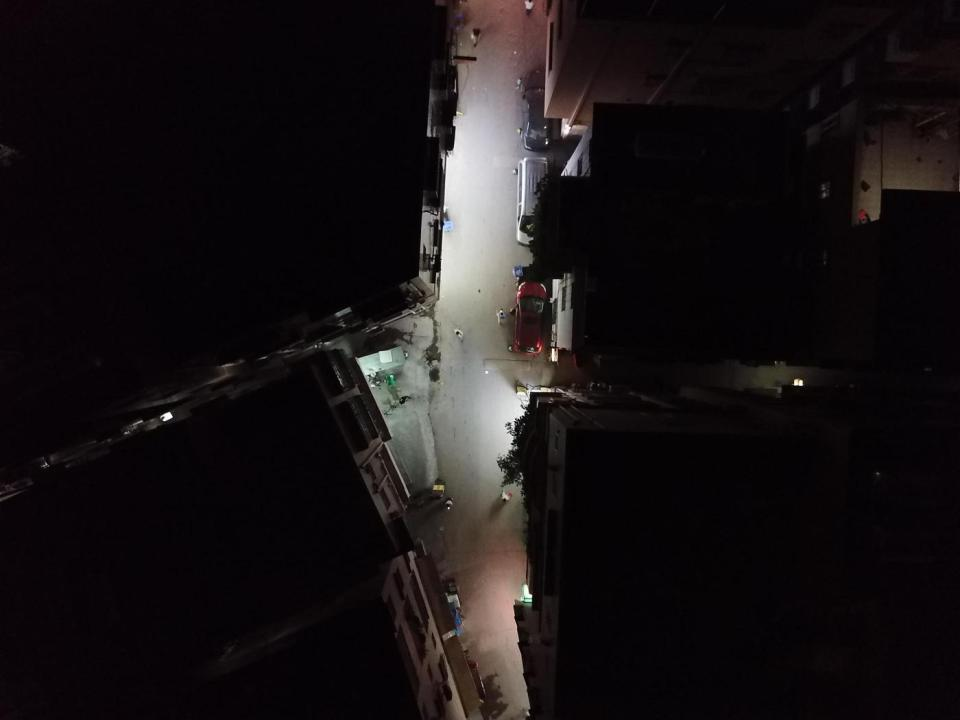car: (521, 70, 554, 151), (512, 280, 547, 355)
van: (516, 156, 551, 247)
